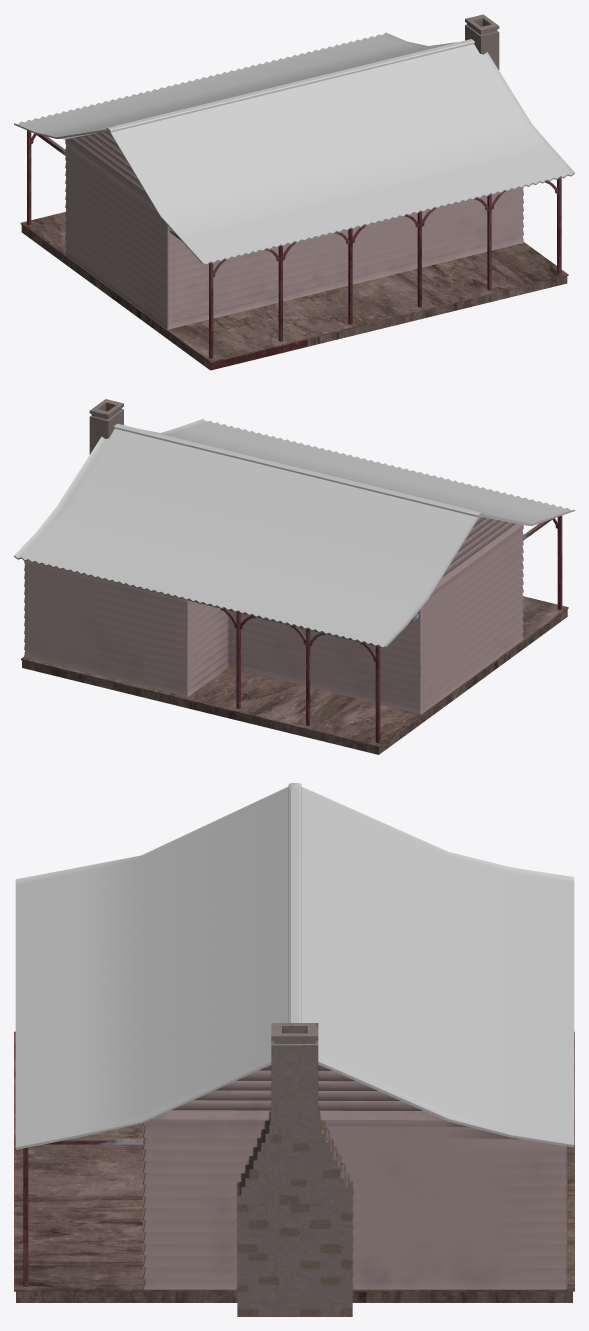
File: House.fbx
The picture shows the model from 3 angles, top to bottom: view 1: azimuth 30°, elevation 25°; view 2: azimuth 150°, elevation 25°; view 3: azimuth 270°, elevation 25°; orthographic projection. The views are drawn at different scales.
Parts seen in each view (by area): view 1: Roof_LOD0, HouseWeatherboard_LOD0, Platform_LOD0, VerandaArches_LOD0, Chimney_LOD0, VerandaArchesBack_LOD0; view 2: Roof_LOD0, HouseWeatherboard_LOD0, Platform_LOD0, VerandaArchesBack_LOD0, Chimney_LOD0, VerandaArches_LOD0; view 3: Roof_LOD0, HouseWeatherboard_LOD0, Platform_LOD0, Chimney_LOD0, VerandaArches_LOD0.
Part boxes in pixels (x1,y1,x2,y2): Roof_LOD0: (14, 32, 574, 265); HouseWeatherboard_LOD0: (65, 131, 523, 329); Platform_LOD0: (20, 212, 568, 370); VerandaArches_LOD0: (170, 177, 561, 358); Chimney_LOD0: (465, 14, 499, 70); VerandaArchesBack_LOD0: (27, 130, 66, 225); Roof_LOD0: (14, 419, 574, 648); HouseWeatherboard_LOD0: (24, 516, 523, 713); Platform_LOD0: (21, 596, 568, 754); VerandaArchesBack_LOD0: (188, 600, 419, 743); Chimney_LOD0: (89, 399, 123, 454); VerandaArches_LOD0: (522, 515, 562, 609); Roof_LOD0: (15, 783, 574, 1149); HouseWeatherboard_LOD0: (142, 1064, 567, 1289); Platform_LOD0: (14, 1031, 574, 1302); Chimney_LOD0: (237, 1023, 352, 1316); VerandaArches_LOD0: (23, 1138, 142, 1286).
Size of what is drawn, in the model's own units: 1286 by 1105 by 610.
